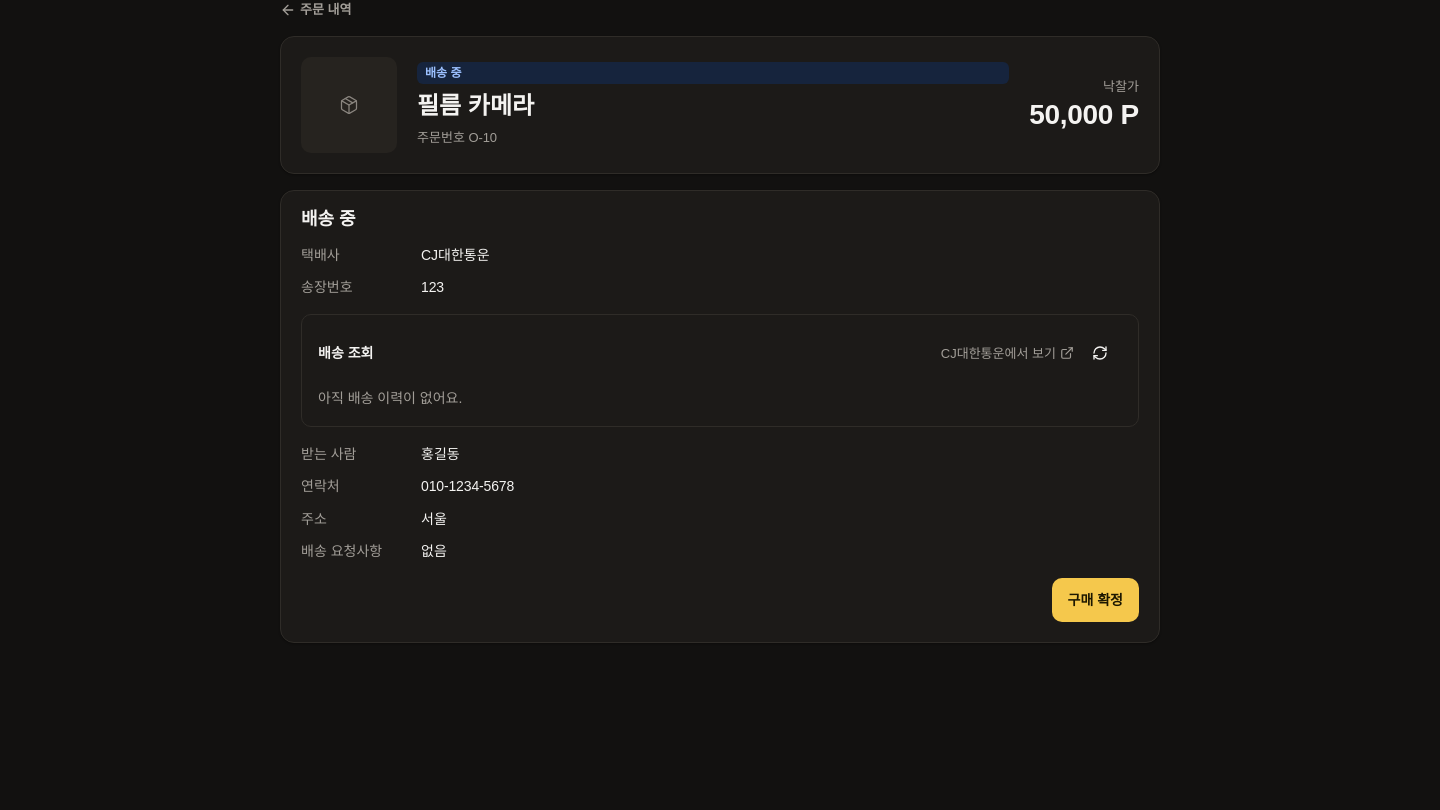
Test case: 주문 리뷰 쓰기 › 구매 확정 직후 창에서 별점과 내용을 남긴다
The width and height of the screenshot is (1440, 810).
Click the button "구매 확정" at (1095, 600), box top-left (1052, 578), bottom-right (1139, 622)
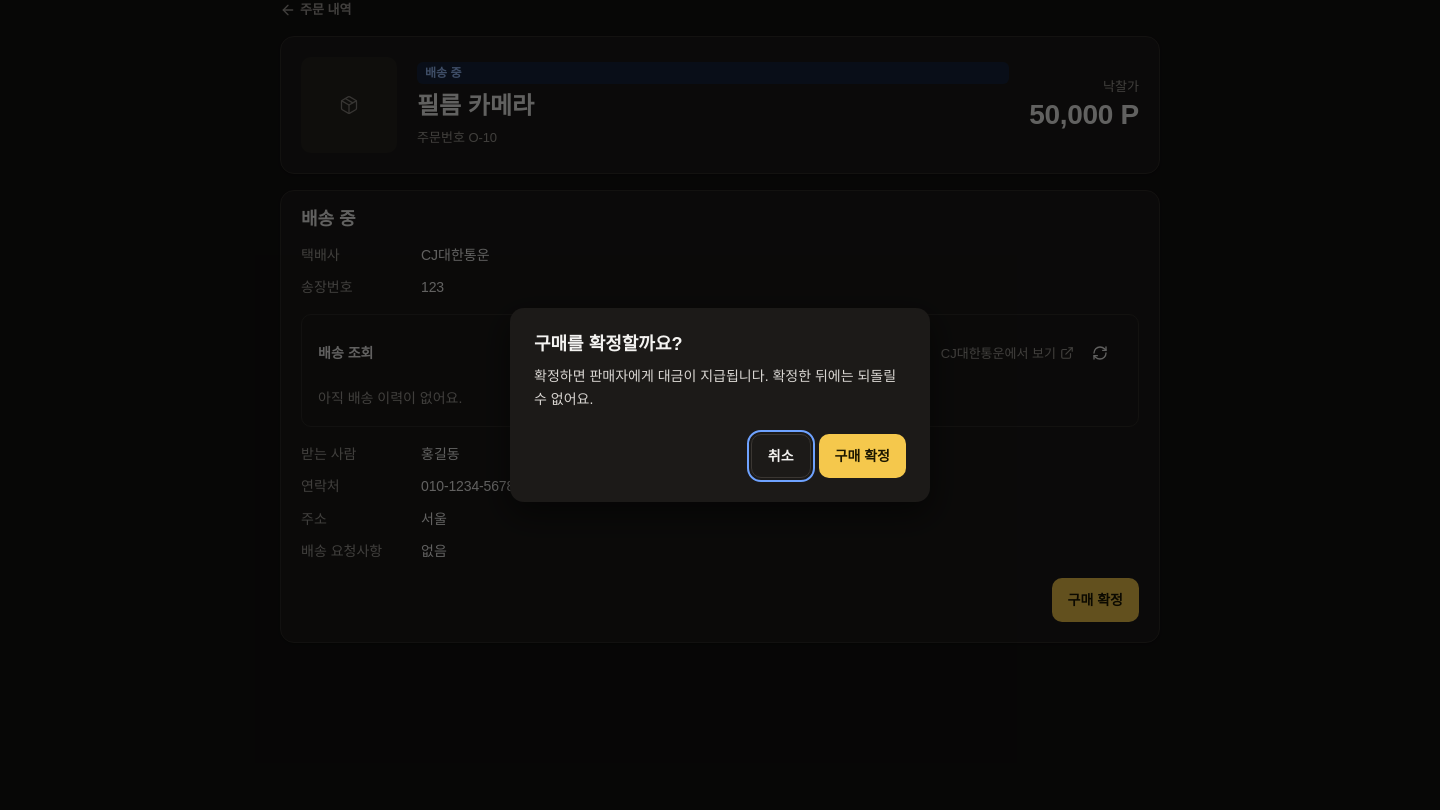
Click the button "구매 확정" at (862, 456), box top-left (819, 434), bottom-right (906, 478)
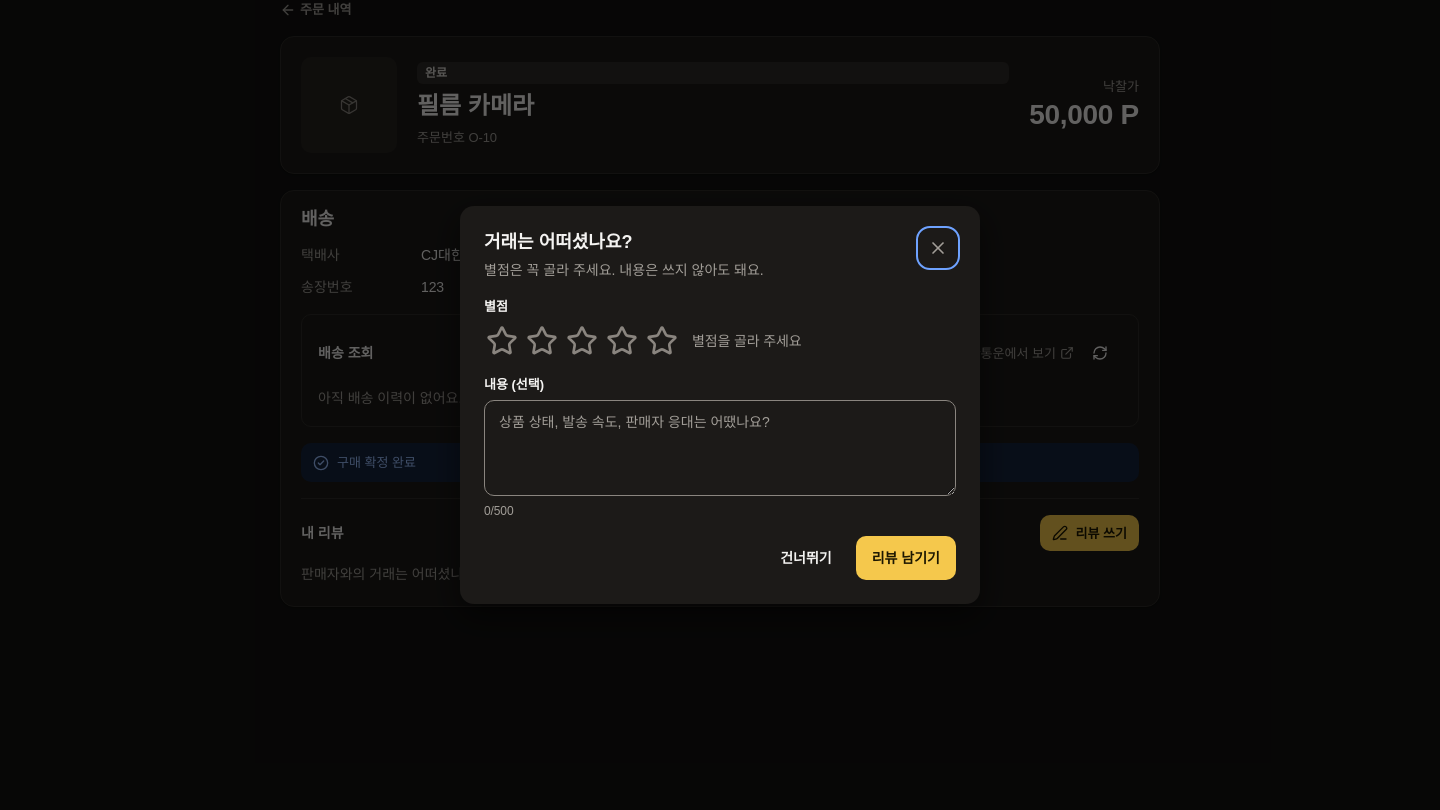
Click the radio button named "5점" at (662, 341), box top-left (644, 323), bottom-right (680, 359)
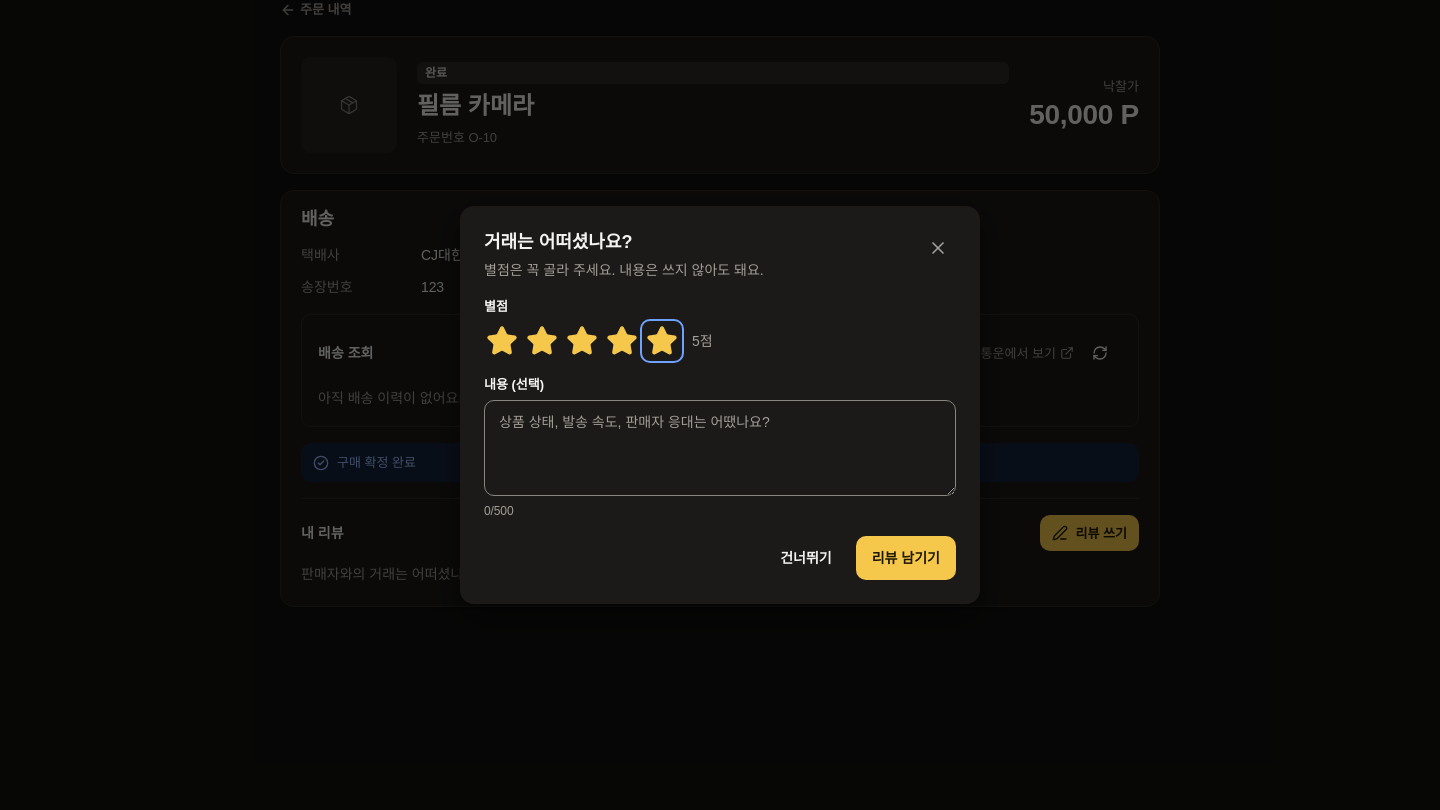
Type "빠른 발송 감사합니다" into the text box labelled "내용 (선택)" at (720, 448), box top-left (484, 400), bottom-right (956, 496)
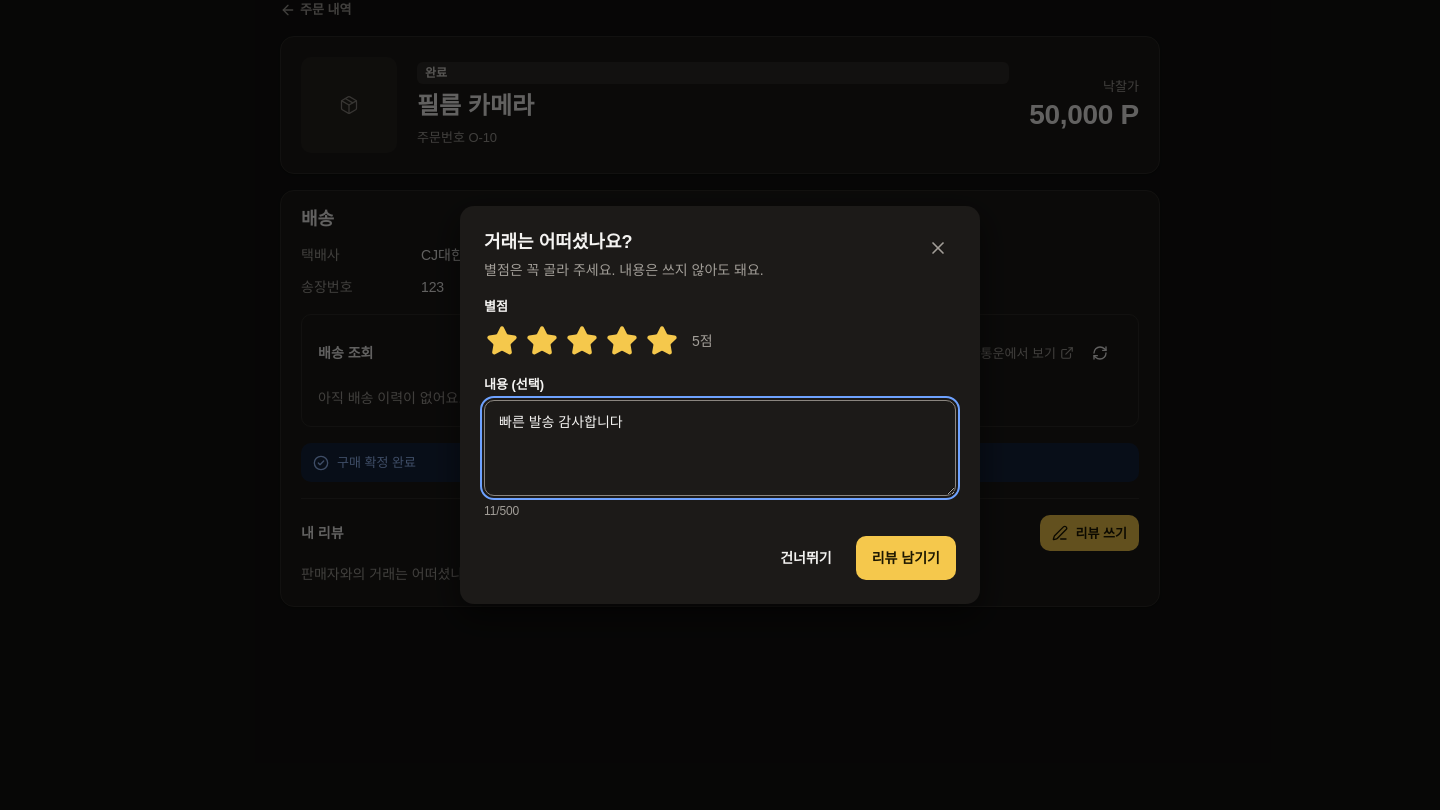
Click the button "리뷰 남기기" at (906, 558), box top-left (856, 536), bottom-right (956, 580)
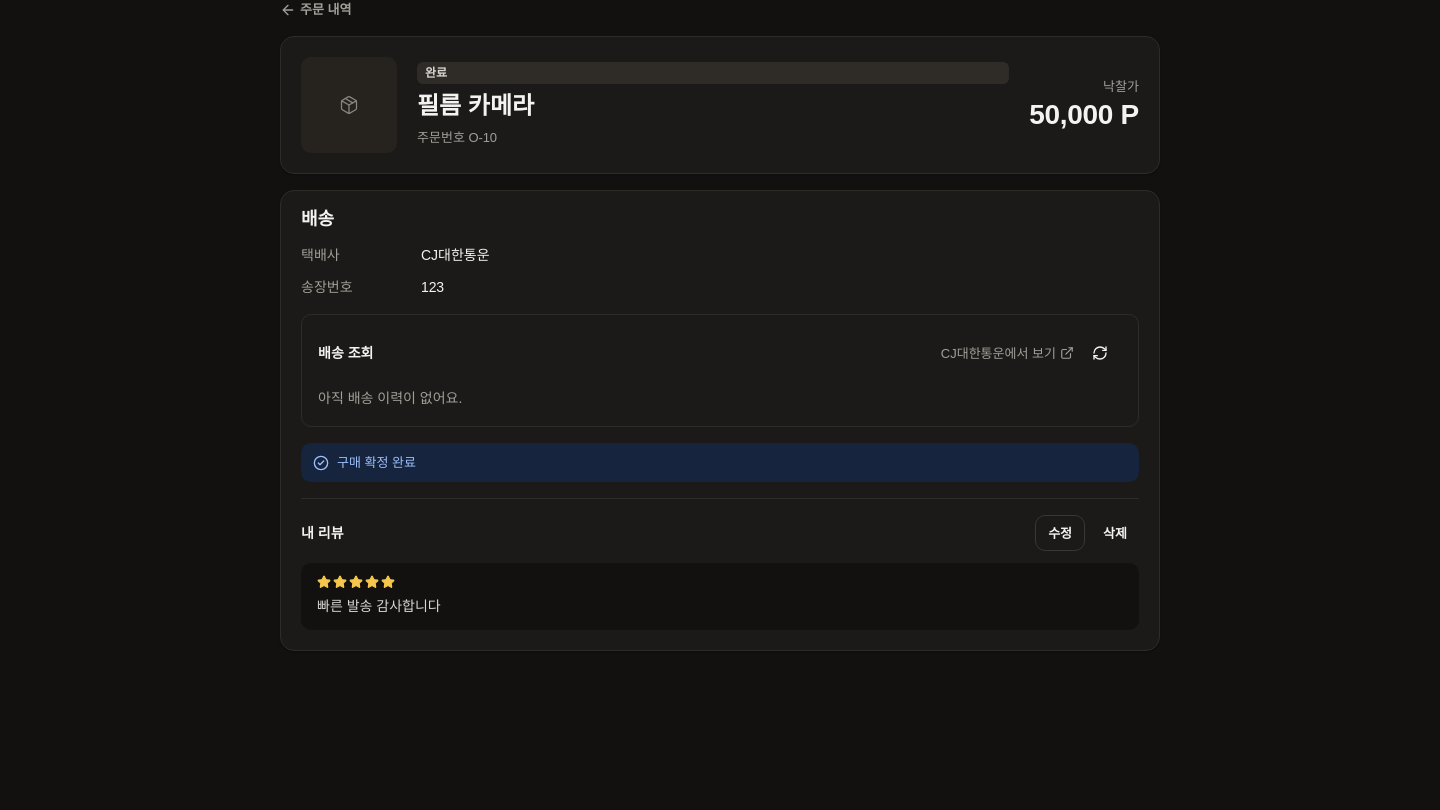
Check: the text "빠른 발송 감사합니다" is shown, box top-left (317, 598), bottom-right (441, 614)
